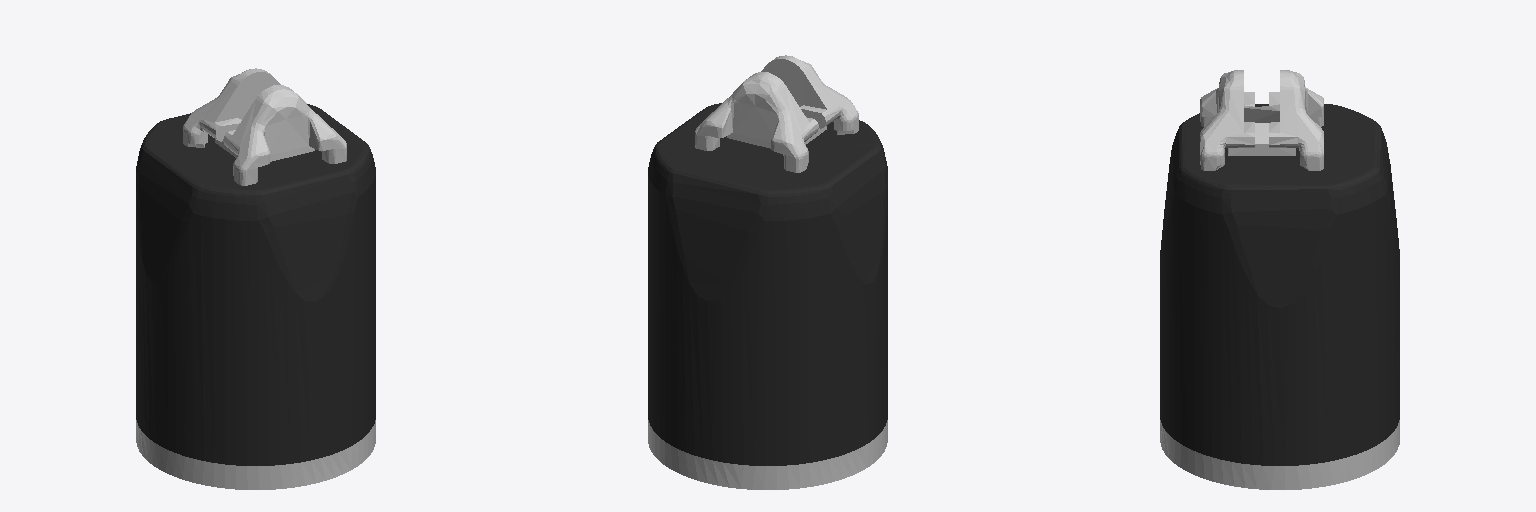
The model's file is forearm.obj.
3 views of the same model, side by side, from view 1: azimuth 30°, elevation 25°; view 2: azimuth 150°, elevation 25°; view 3: azimuth 270°, elevation 25° (orthographic).
Parts seen in each view (by area): view 1: forearm_forearm_001; view 2: forearm_forearm_001; view 3: forearm_forearm_001.
Part boxes in pixels (bbox=[...]): forearm_forearm_001: bbox=[136, 68, 375, 489]; forearm_forearm_001: bbox=[648, 55, 887, 489]; forearm_forearm_001: bbox=[1160, 70, 1399, 489].
Size of the model in its own units: 1.35 by 2.28 by 1.35.